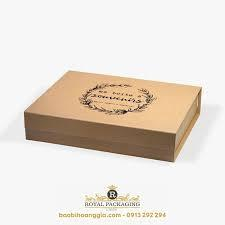box: (23, 70, 201, 164)
